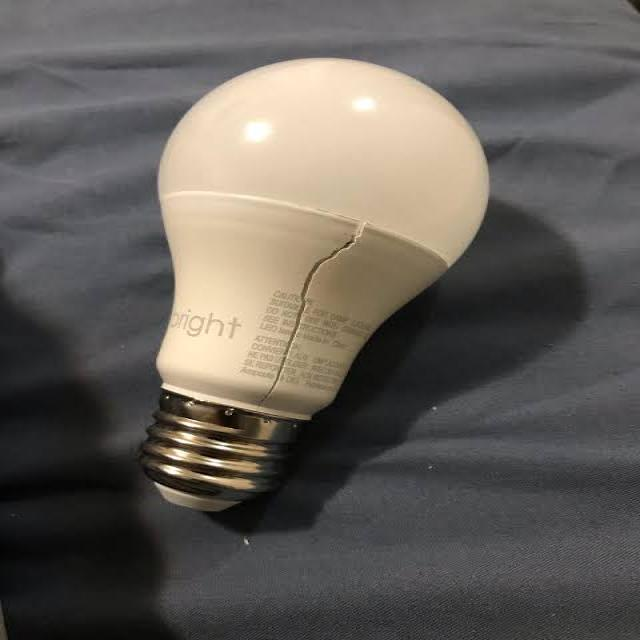bulb: (102, 53, 502, 529)
